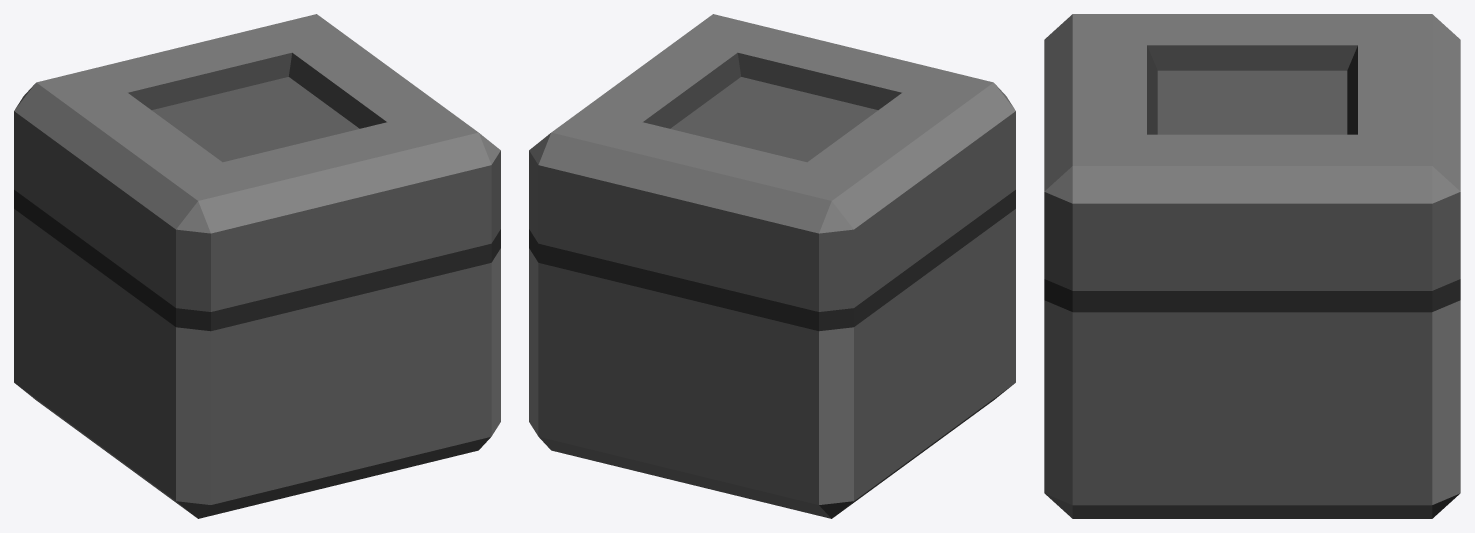
Rendered from CR_StorageCrate_Small_1.fbx.
3 renders of one model, left to right at view 1: azimuth 30°, elevation 25°; view 2: azimuth 150°, elevation 25°; view 3: azimuth 270°, elevation 25°, orthographic. The views are drawn at different scales.
Visible parts, largest first — view 1: CR_StorageCrate_Small_Lid_1, CR_StorageCrate_Small_1; view 2: CR_StorageCrate_Small_Lid_1, CR_StorageCrate_Small_1; view 3: CR_StorageCrate_Small_Lid_1, CR_StorageCrate_Small_1.
Part boxes in pixels (x1,y1,x2,y2): CR_StorageCrate_Small_Lid_1: [14, 14, 500, 311]; CR_StorageCrate_Small_1: [14, 190, 500, 518]; CR_StorageCrate_Small_Lid_1: [529, 14, 1015, 311]; CR_StorageCrate_Small_1: [529, 190, 1015, 518]; CR_StorageCrate_Small_Lid_1: [1044, 14, 1460, 290]; CR_StorageCrate_Small_1: [1044, 279, 1460, 518].
Size of the model in its own units: 0.5331 by 0.4986 by 0.5331.
